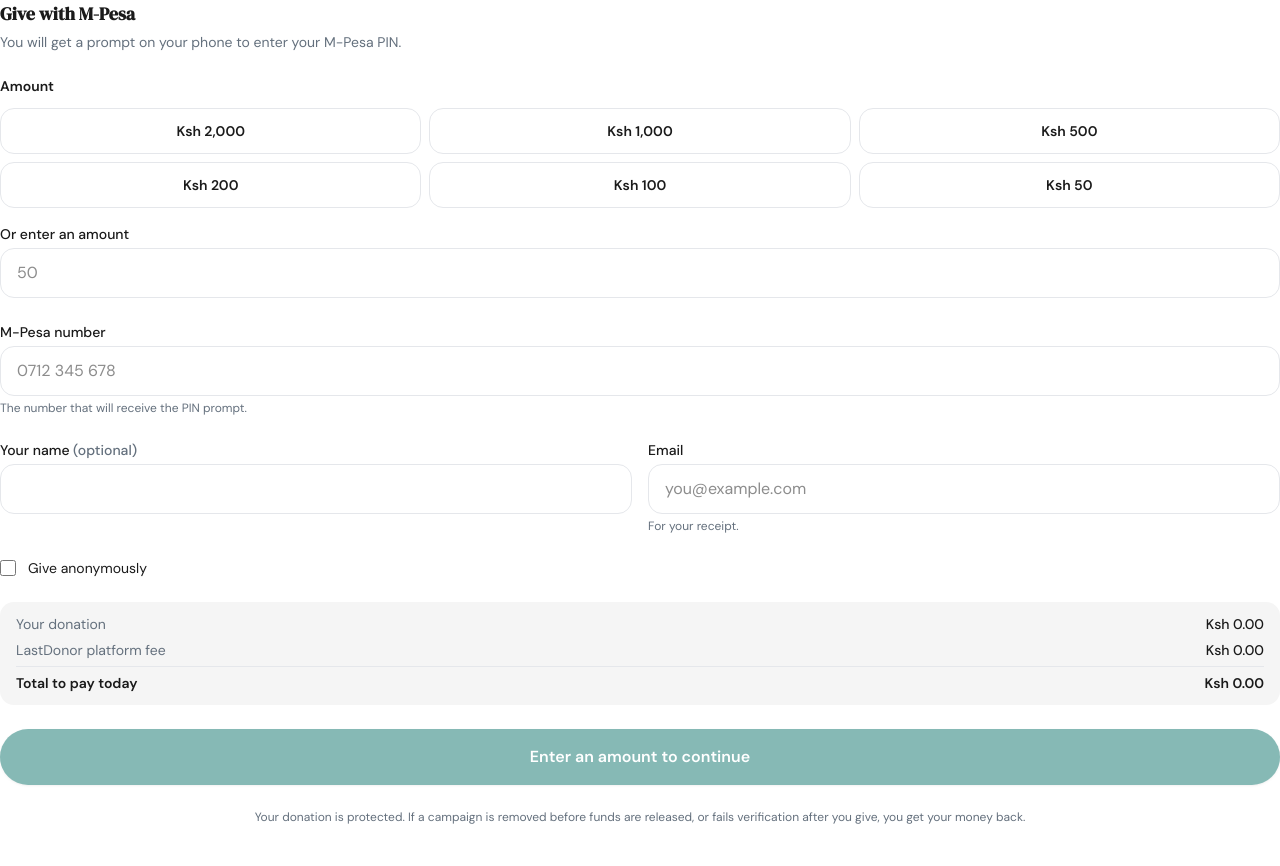
an unknown payment outcome latches the pay button › ⛔ disables the pay button and asks the donor to confirm first
Type "0713572703" into the field labelled "M-Pesa number" at x=640, y=371, box [0,346,1279,396]
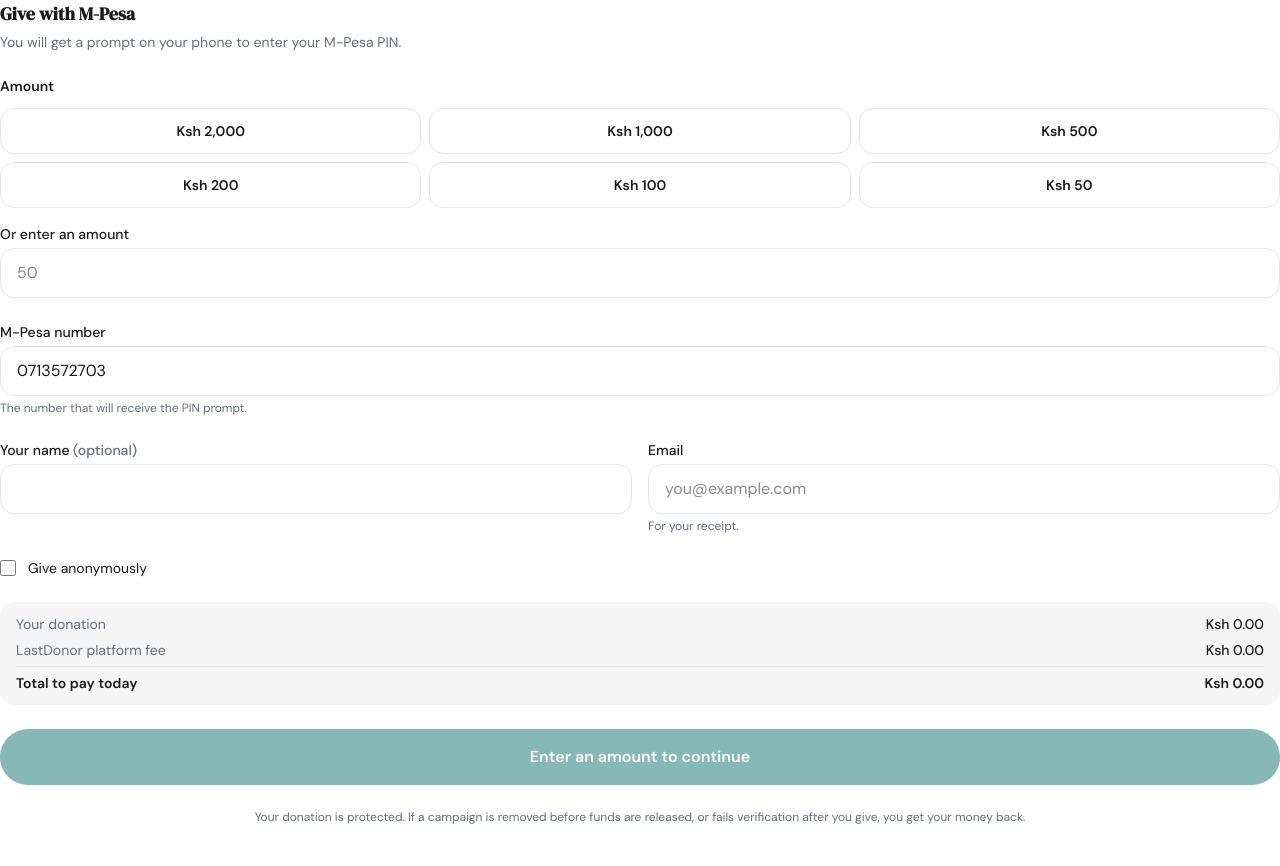
Type "donor@example.com" into the field labelled "Email" at x=964, y=489, box [648,464,1279,514]
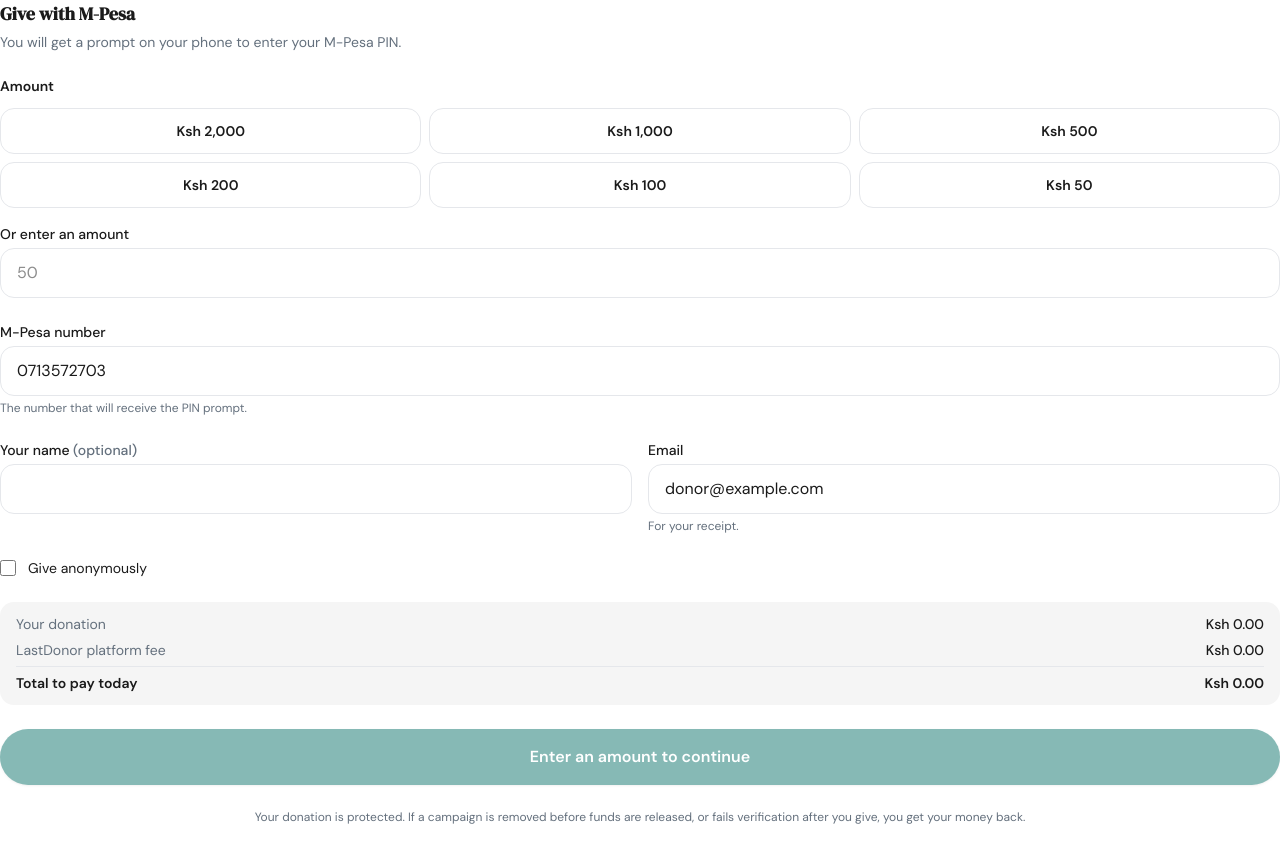
Click the button "Ksh 50" at x=1069, y=185, box [859,162,1279,208]
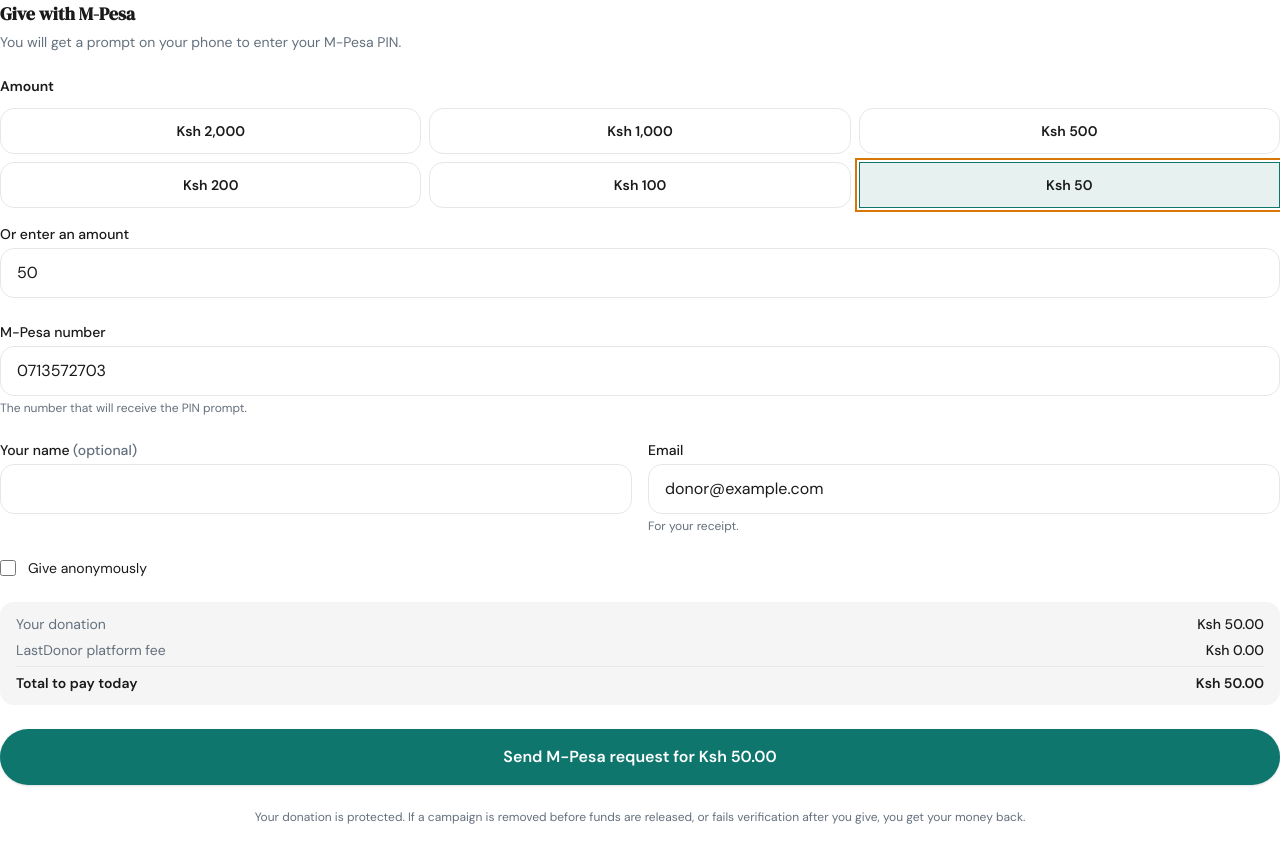
Click the button "Send M-Pesa request for Ksh 50.00" at x=640, y=757, box [0,729,1279,785]
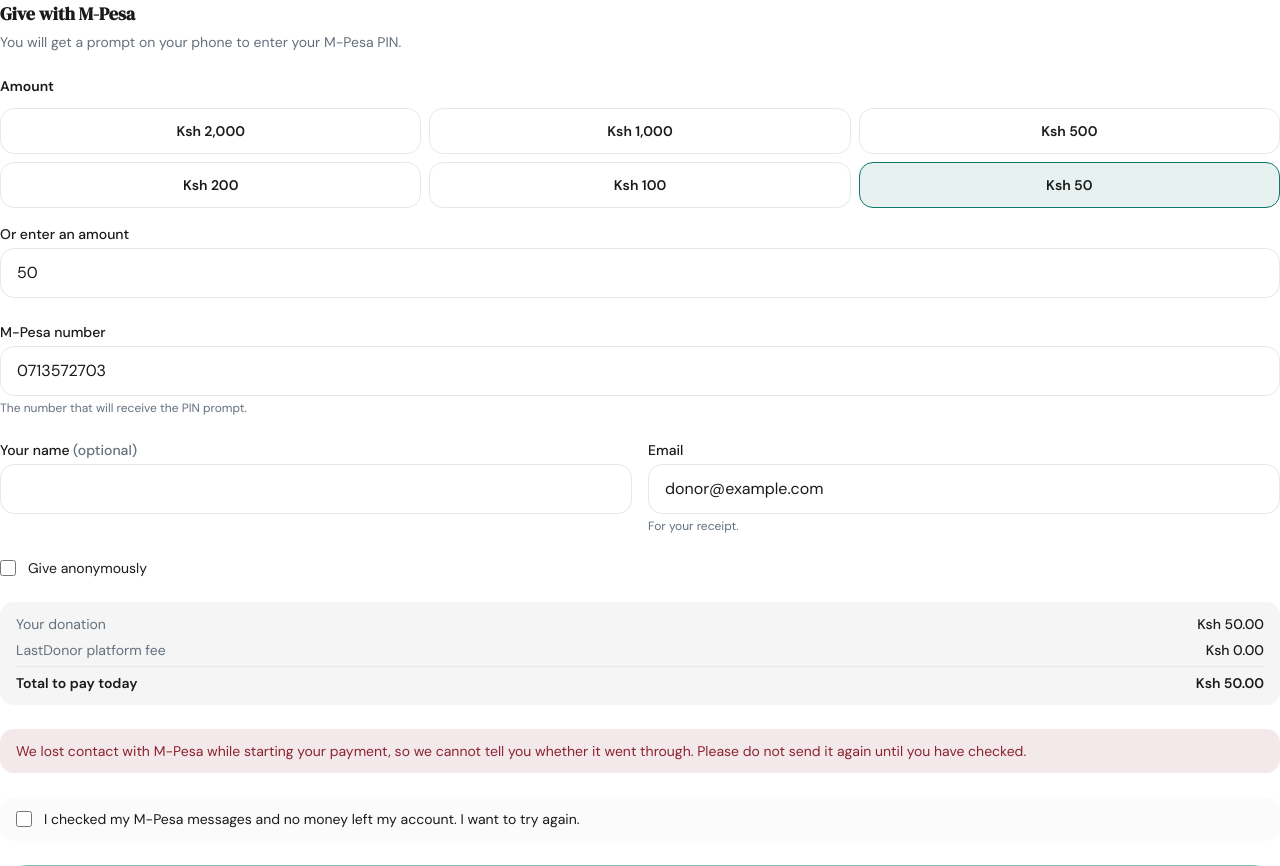
Now the message shows "cannot tell you whether", box [16,742,1026,760]
Now the checkbox labelled "checked my M-Pesa messages" is shown, box [16,811,32,827]
